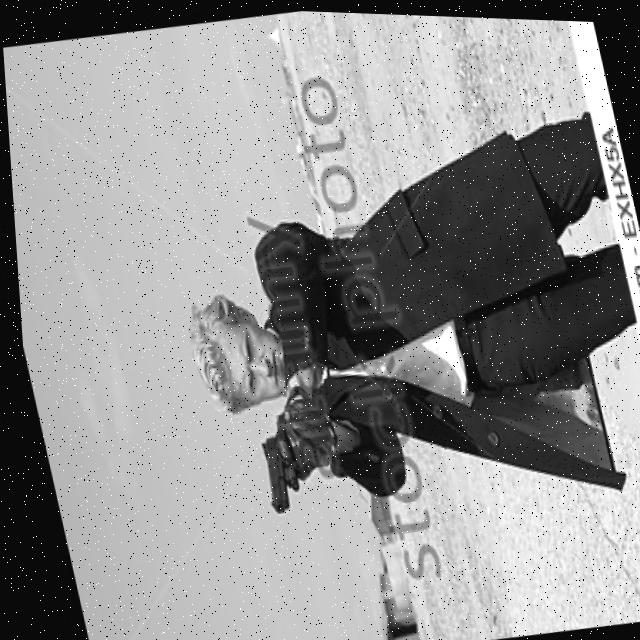pistol: (251, 430, 298, 511)
